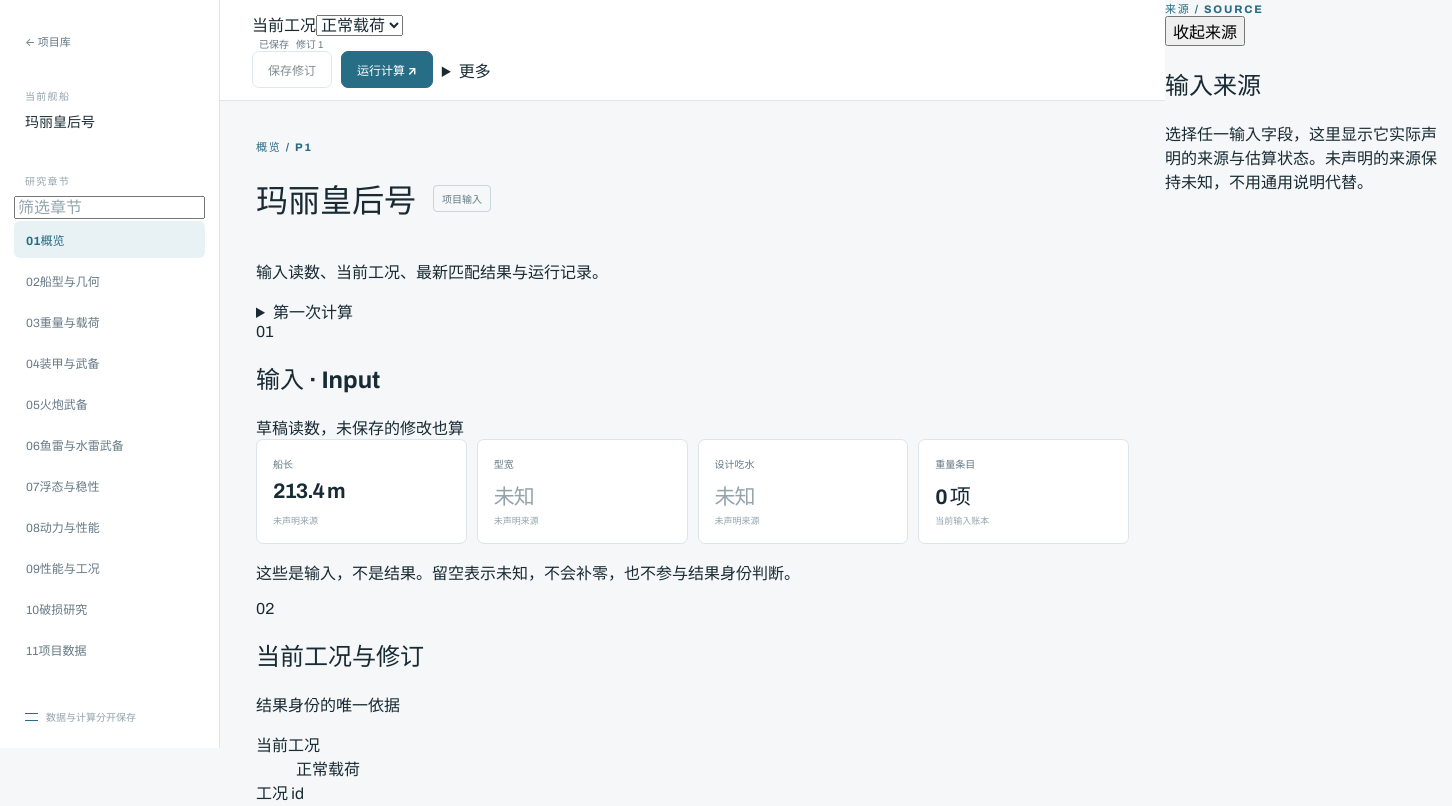
Scenario: guns battery form › shows a prompt instead of a zero aggregate when there is no run
Click the button "05火炮武备": point(110, 404) [14,385,205,422]
(page scrolled)
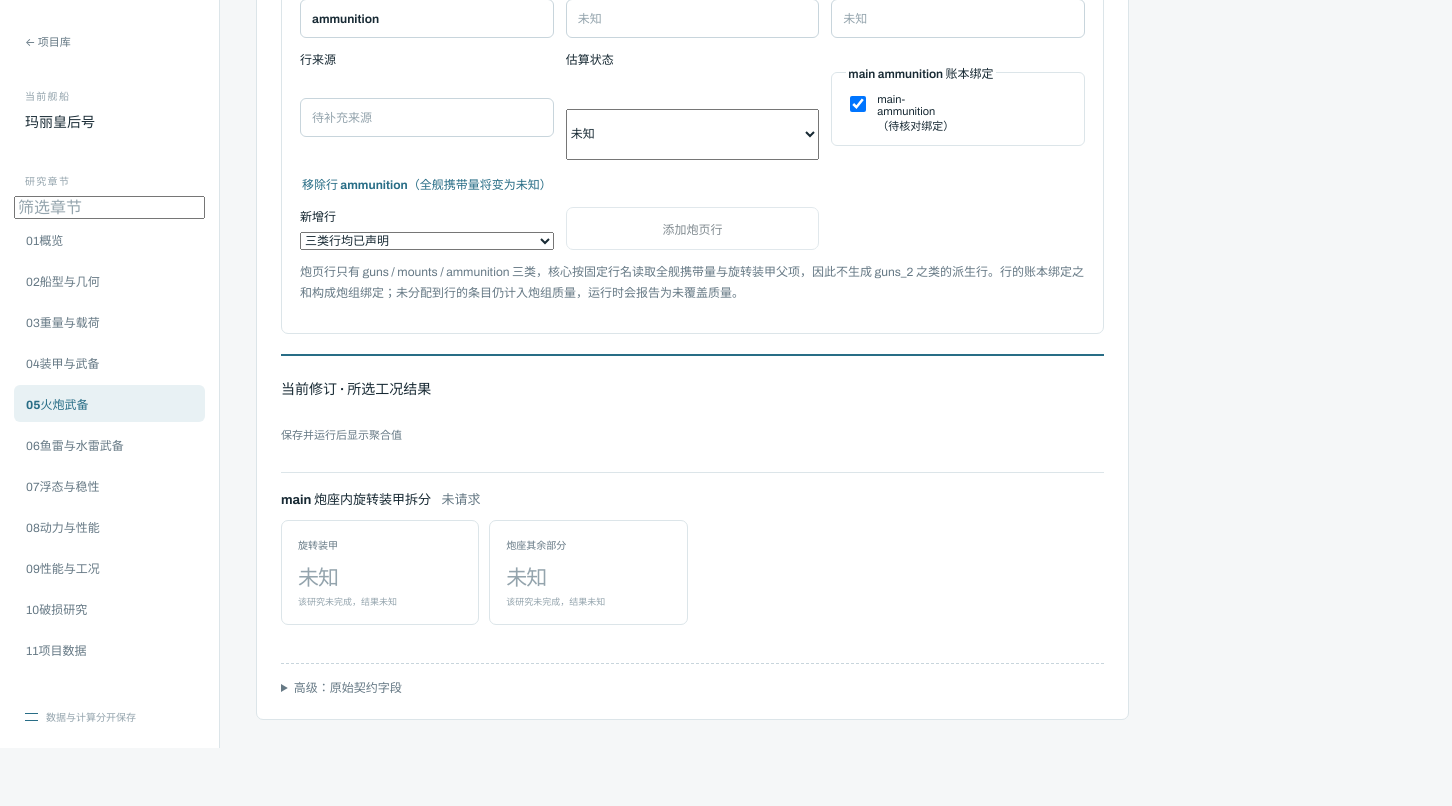
Check: the text "保存并运行后显示聚合值" is shown, box [281,429,402,441]
